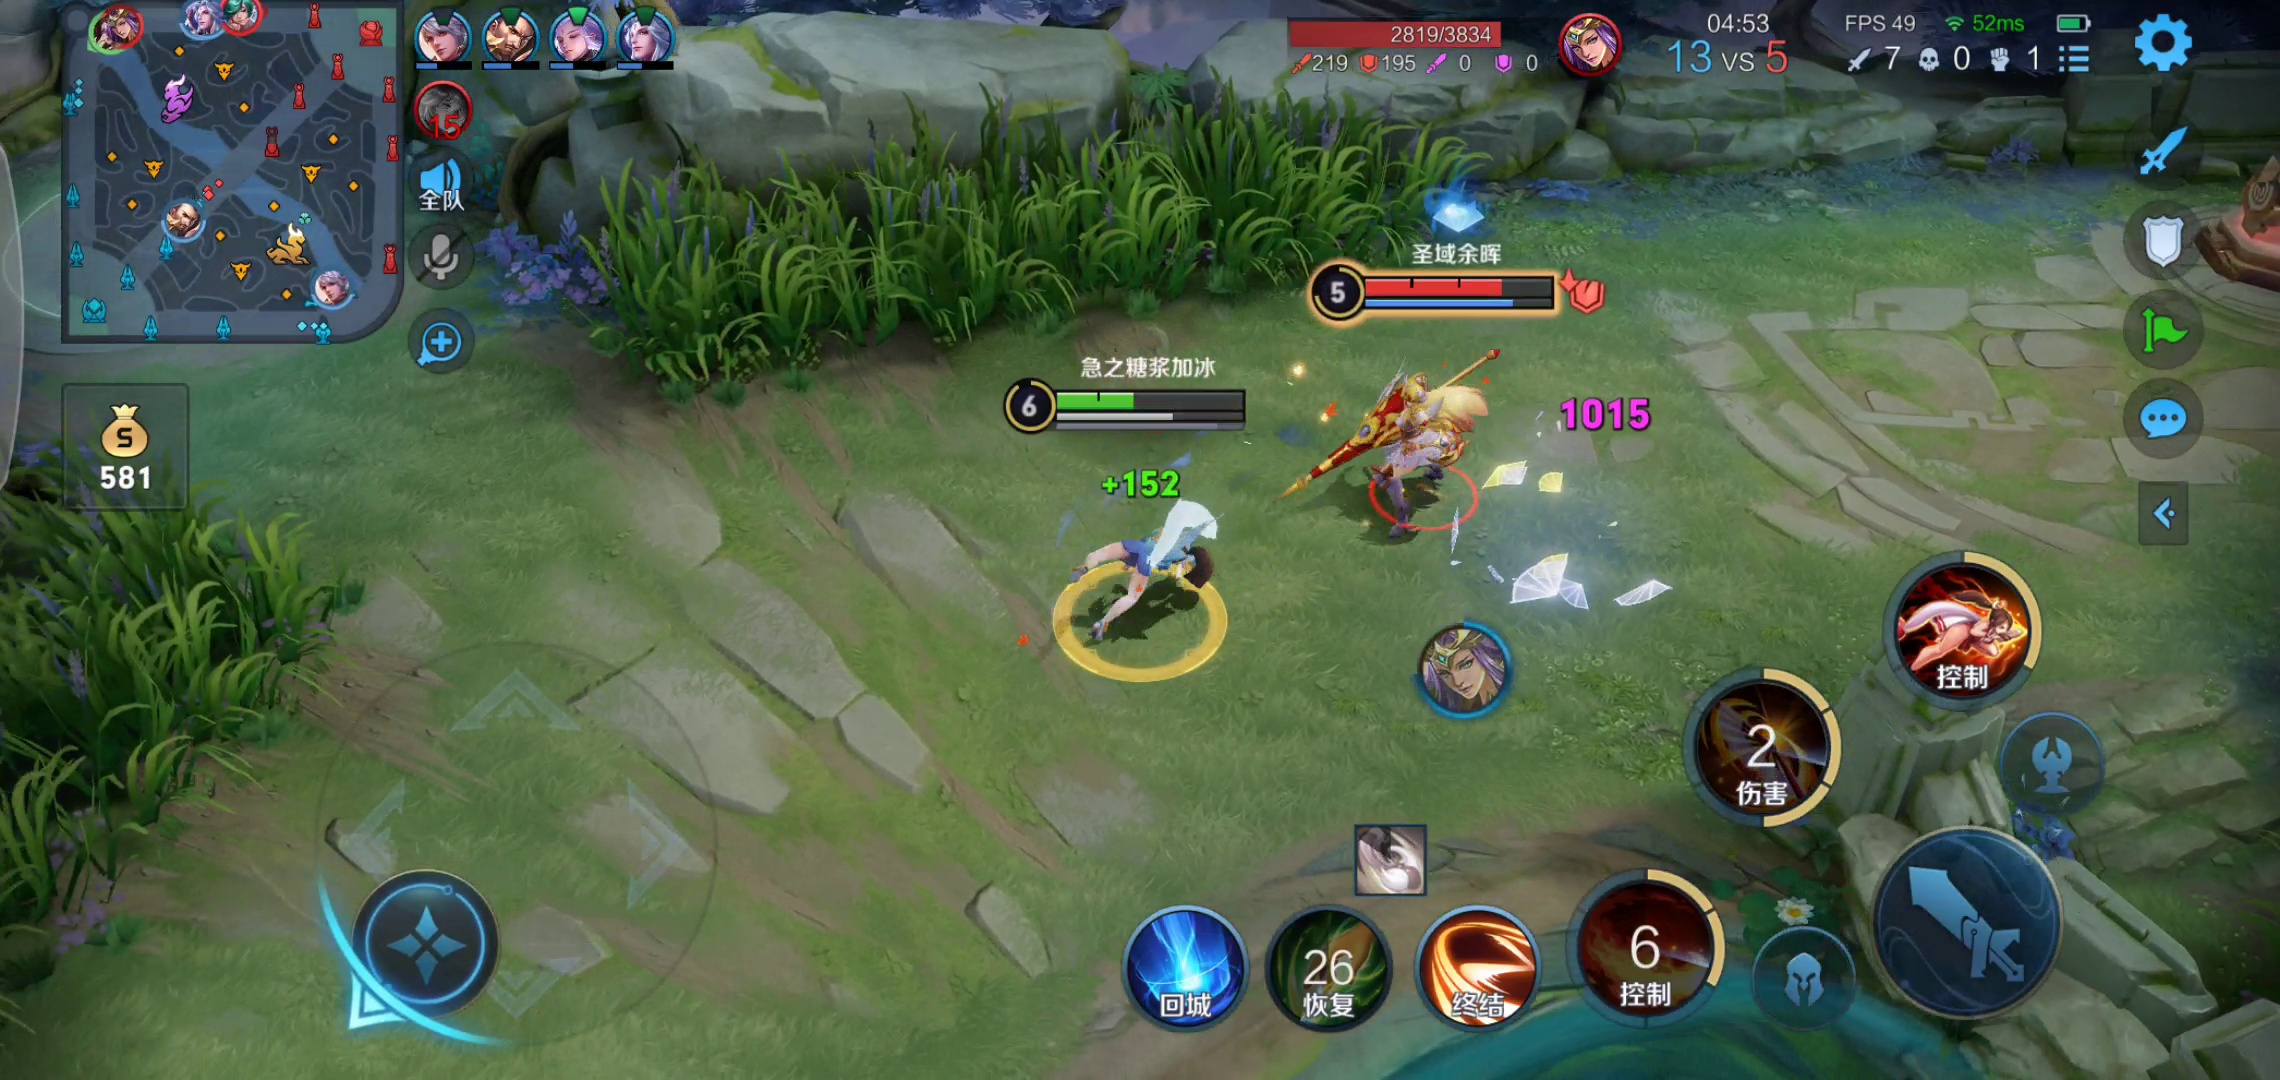grass: (635, 106, 1517, 340), (4, 448, 377, 936)
hero: (1314, 355, 1492, 549), (1064, 483, 1253, 648)
tower: (2212, 169, 2280, 288)
